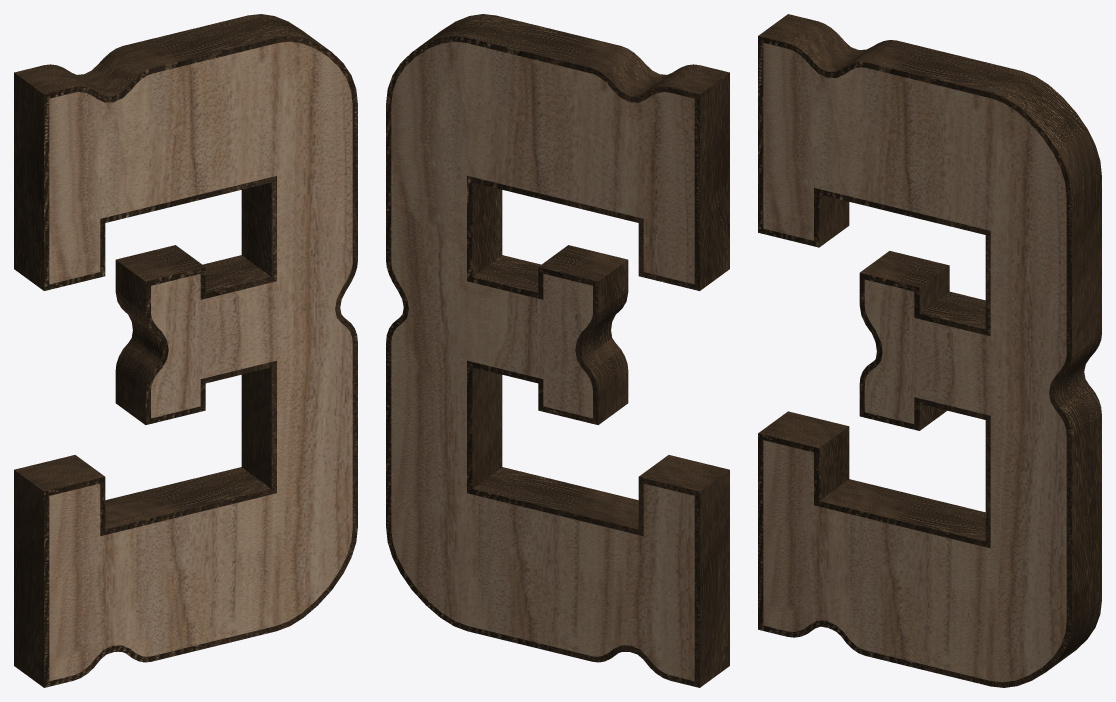
The picture shows the model from 3 angles, left to right: view 1: azimuth 30°, elevation 25°; view 2: azimuth 150°, elevation 25°; view 3: azimuth 330°, elevation 25°; orthographic projection.
Parts seen in each view (by area): view 1: 3, 3_outline; view 2: 3, 3_outline; view 3: 3, 3_outline.
Boxes of the visible parts, x1,y1,x2,y2 form: 3: (49, 41, 352, 680); 3_outline: (14, 14, 357, 687); 3: (391, 41, 694, 680); 3_outline: (386, 14, 729, 687); 3: (763, 43, 1066, 682); 3_outline: (758, 14, 1101, 687).
Bounding box in the file's own units: 60.2 × 109 × 10.
2 materials, 2 textured.
